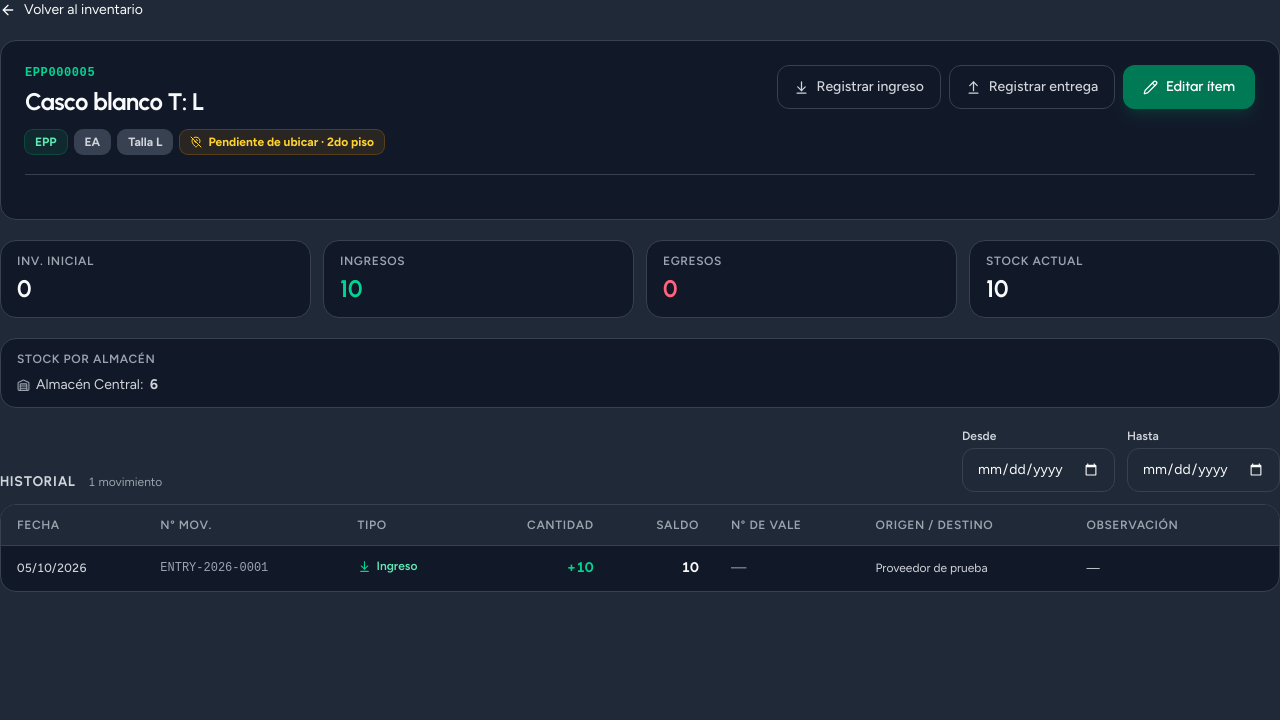
KardexPage — periodo y edición › «Cancelar» en el editor cierra el diálogo sin guardar ni recargar el kardex
The width and height of the screenshot is (1280, 720).
Expected: the table is shown, [1,505,1279,590]
Click the button "Editar ítem". click: [1189, 87]
box: [1123,65,1255,109]
(page scrolled)
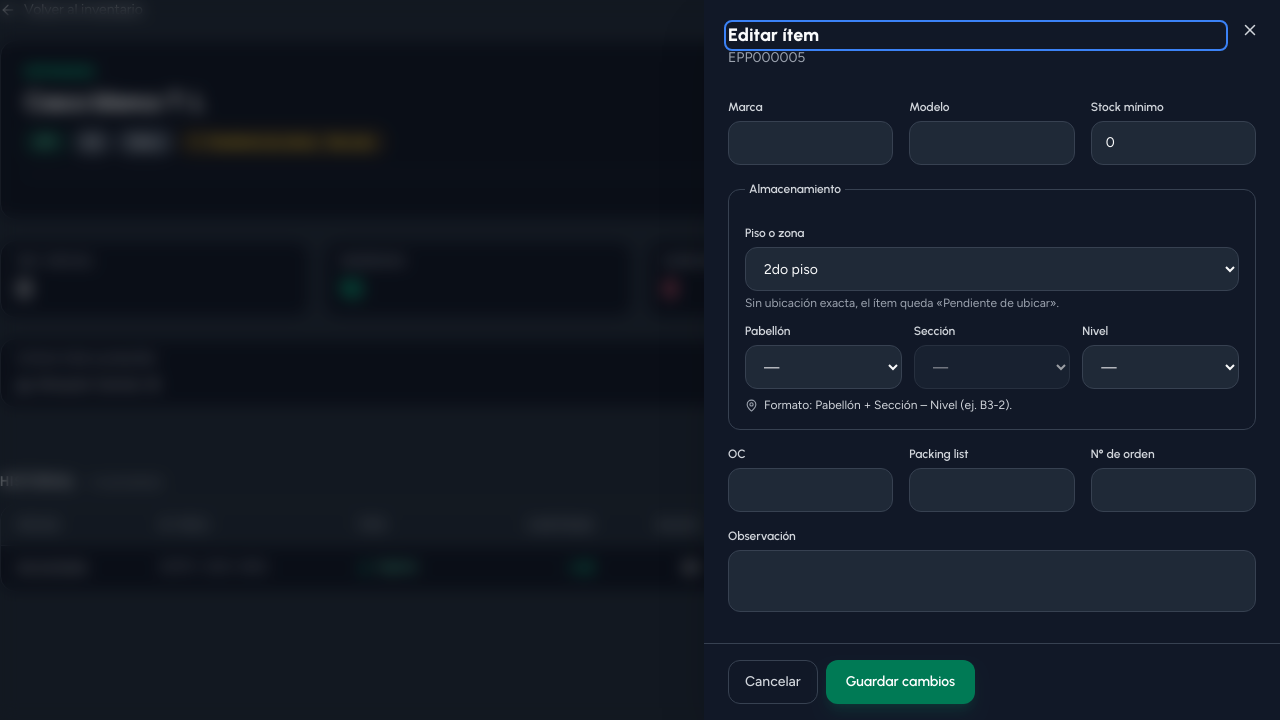
Type "cambio descartado" into the text box labelled "Observación". click: [992, 581]
box: [728,550,1256,612]
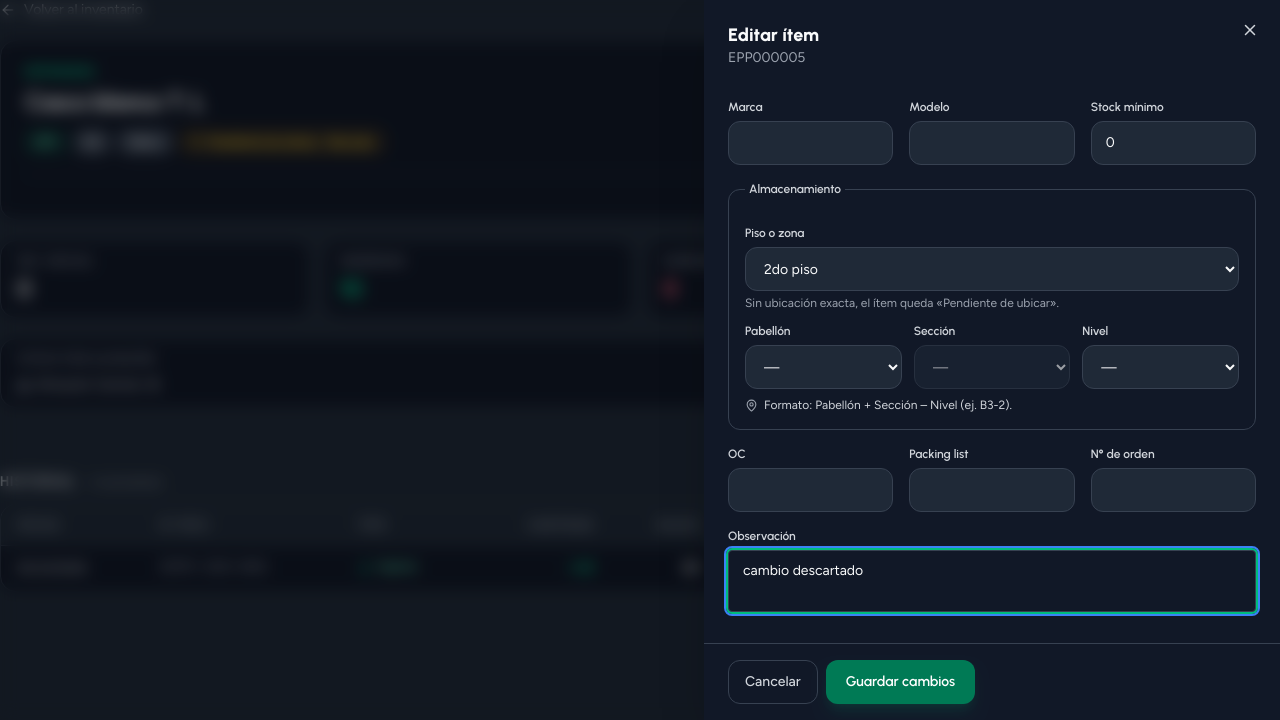
Click the button "Cancelar". click: [773, 682]
box: [728,660,818,704]
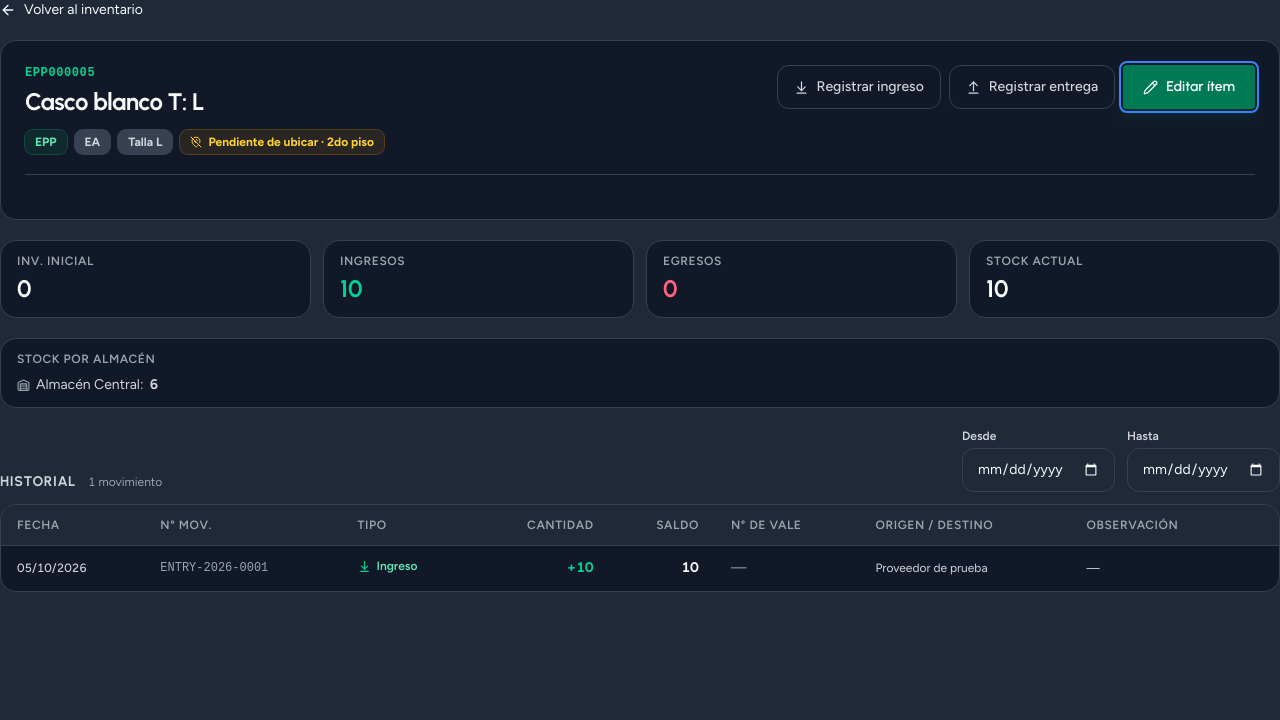
Result: the dialog is gone
